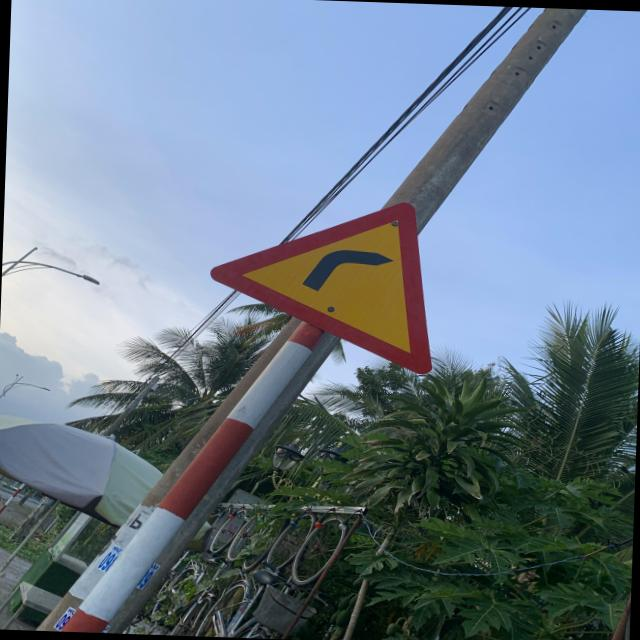Duong_Nguoi_Di_Bo_Cat_Ngang: (210, 195, 439, 372)
